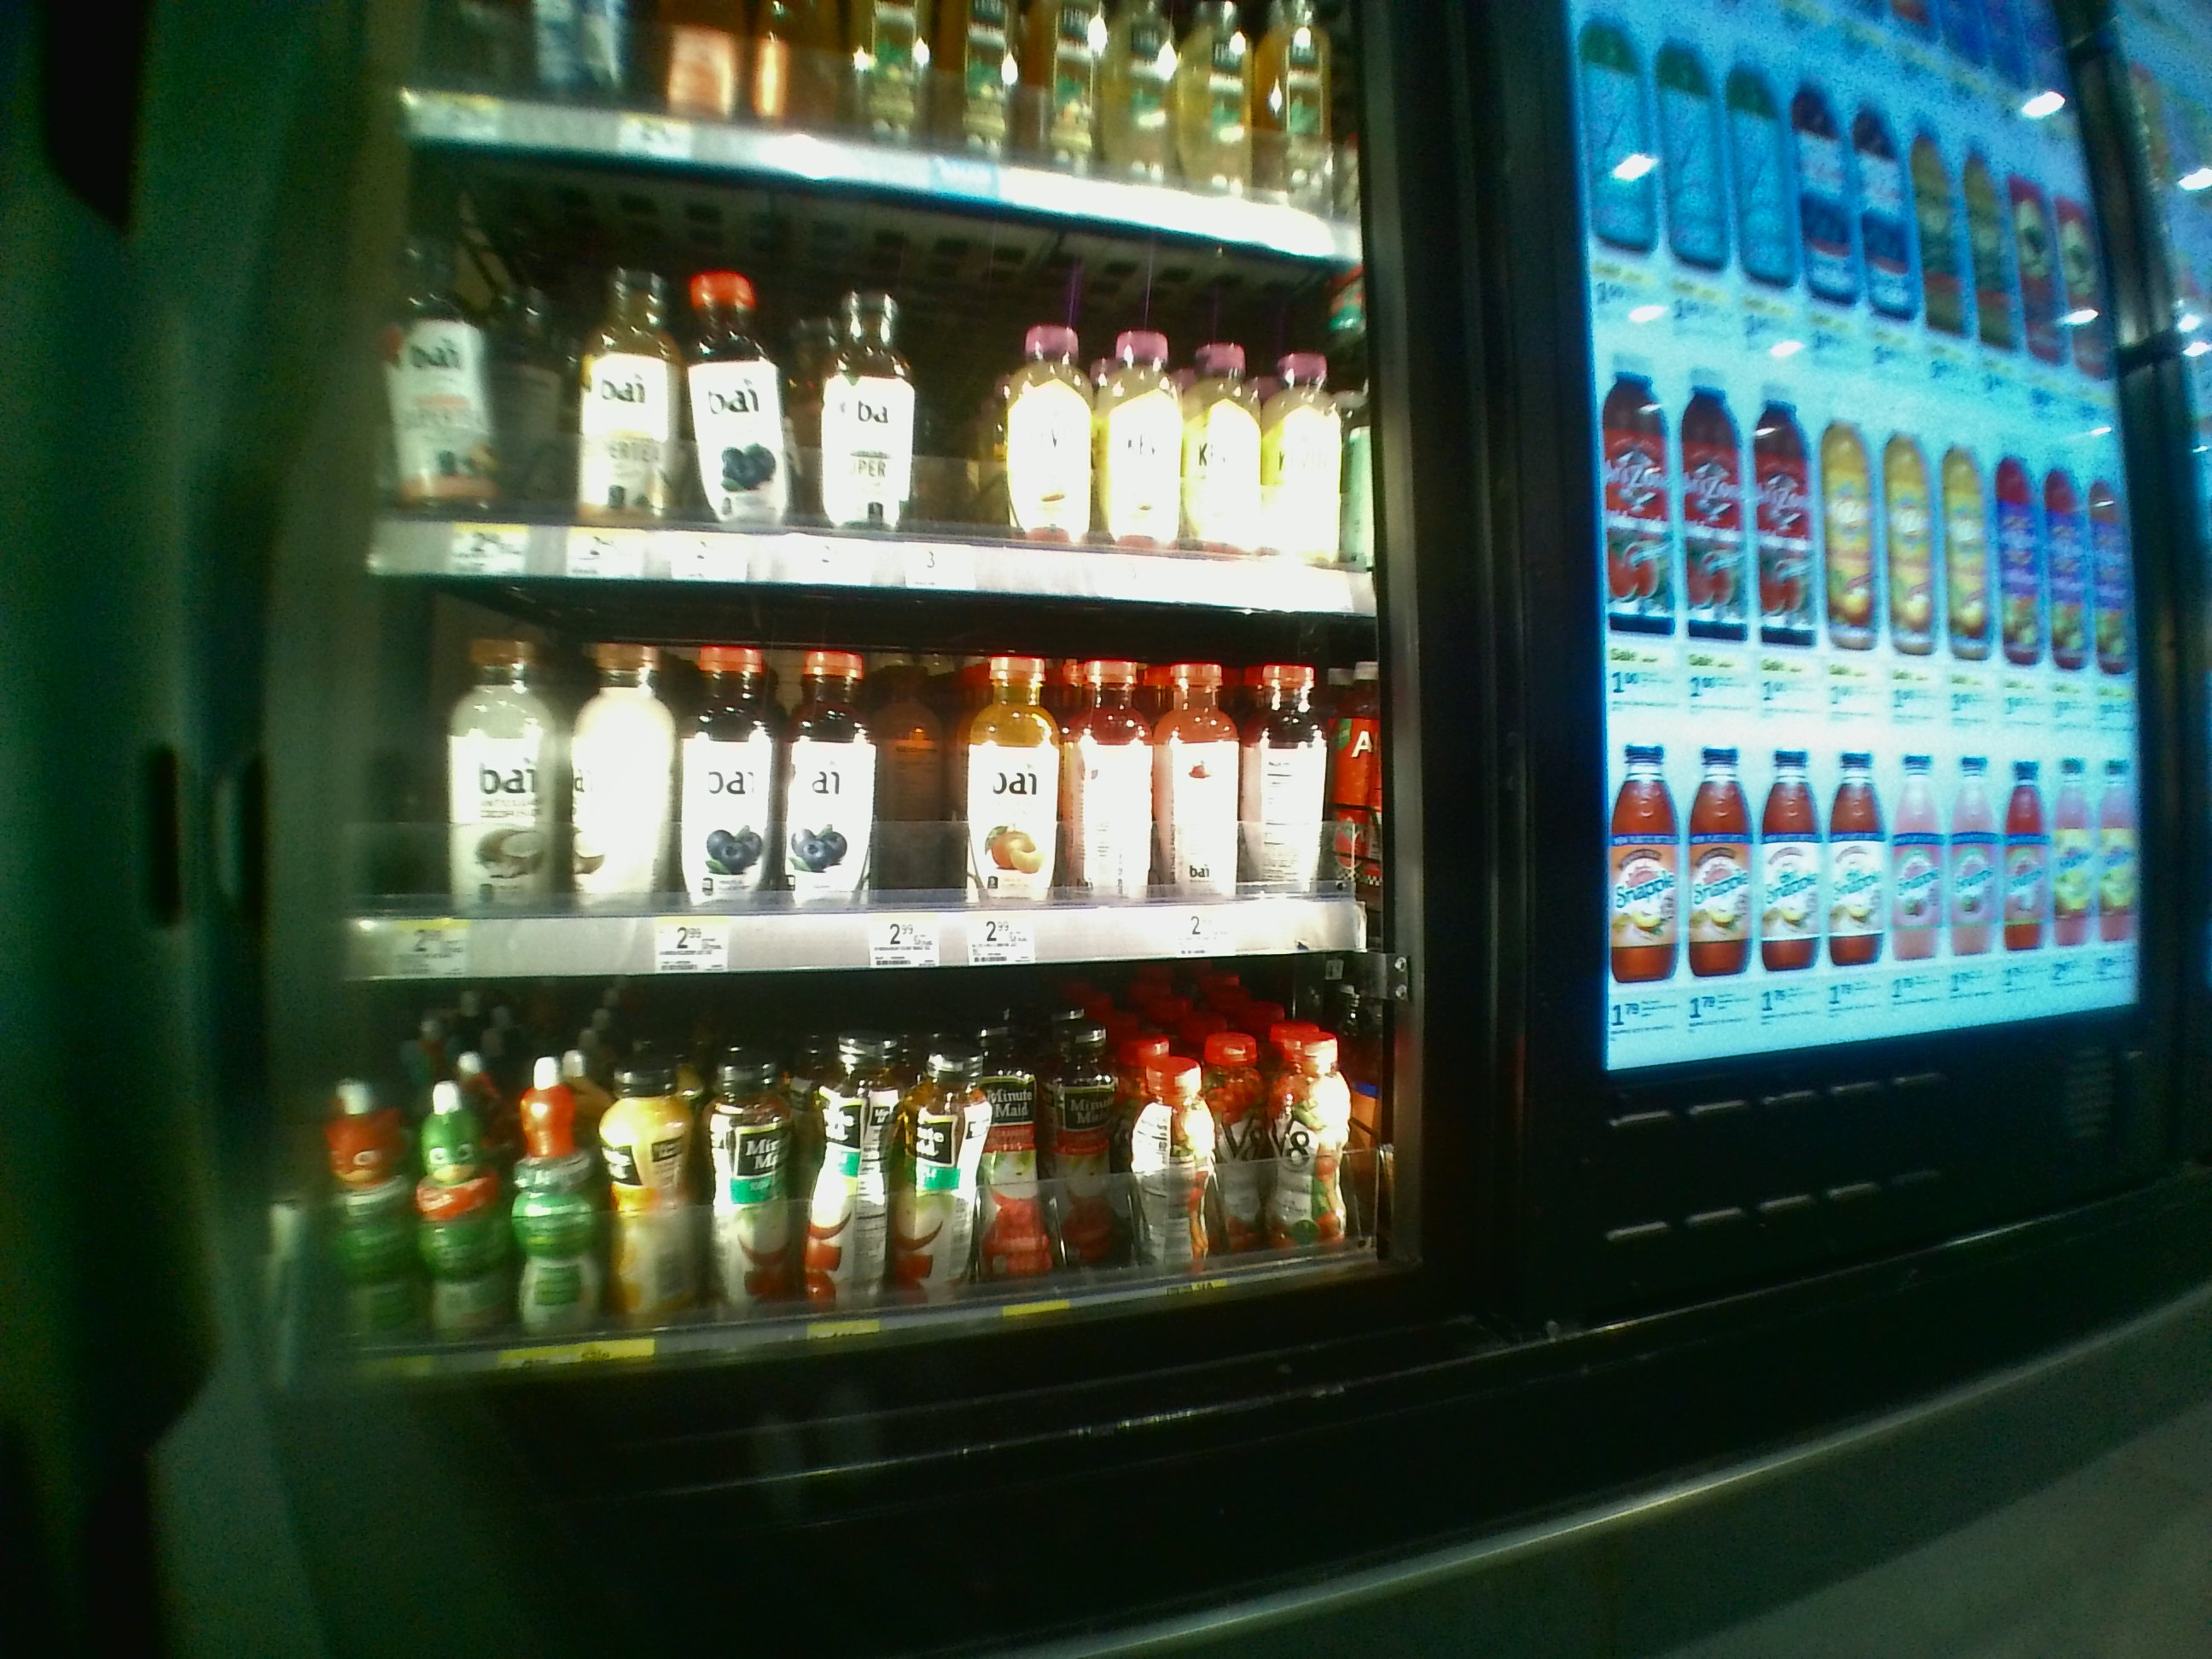shelf: (369, 145, 1374, 579), (324, 988, 1395, 1391), (347, 592, 1388, 974)
